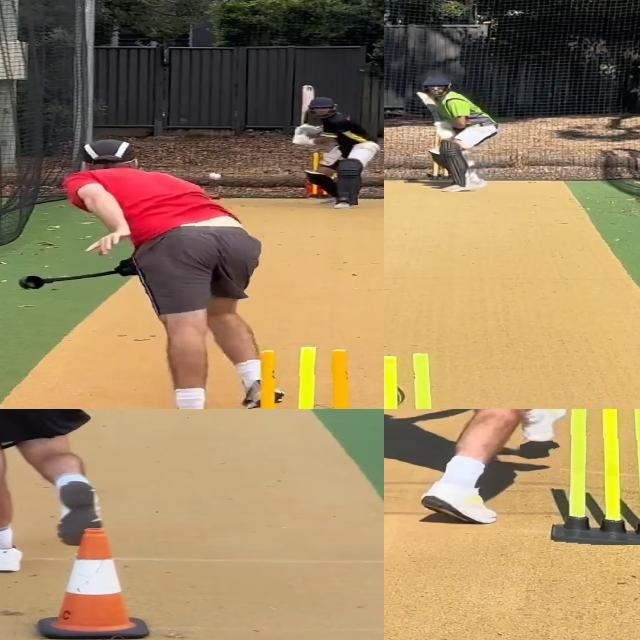Cricket ball: (208, 171, 221, 180), (429, 146, 441, 154)
Stumps: (546, 409, 640, 545), (237, 345, 364, 409)
